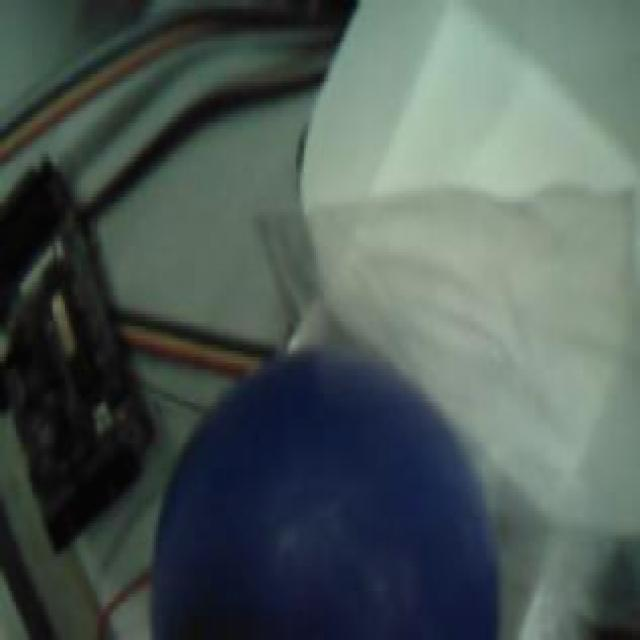BallPurple: (155, 344, 498, 640)
